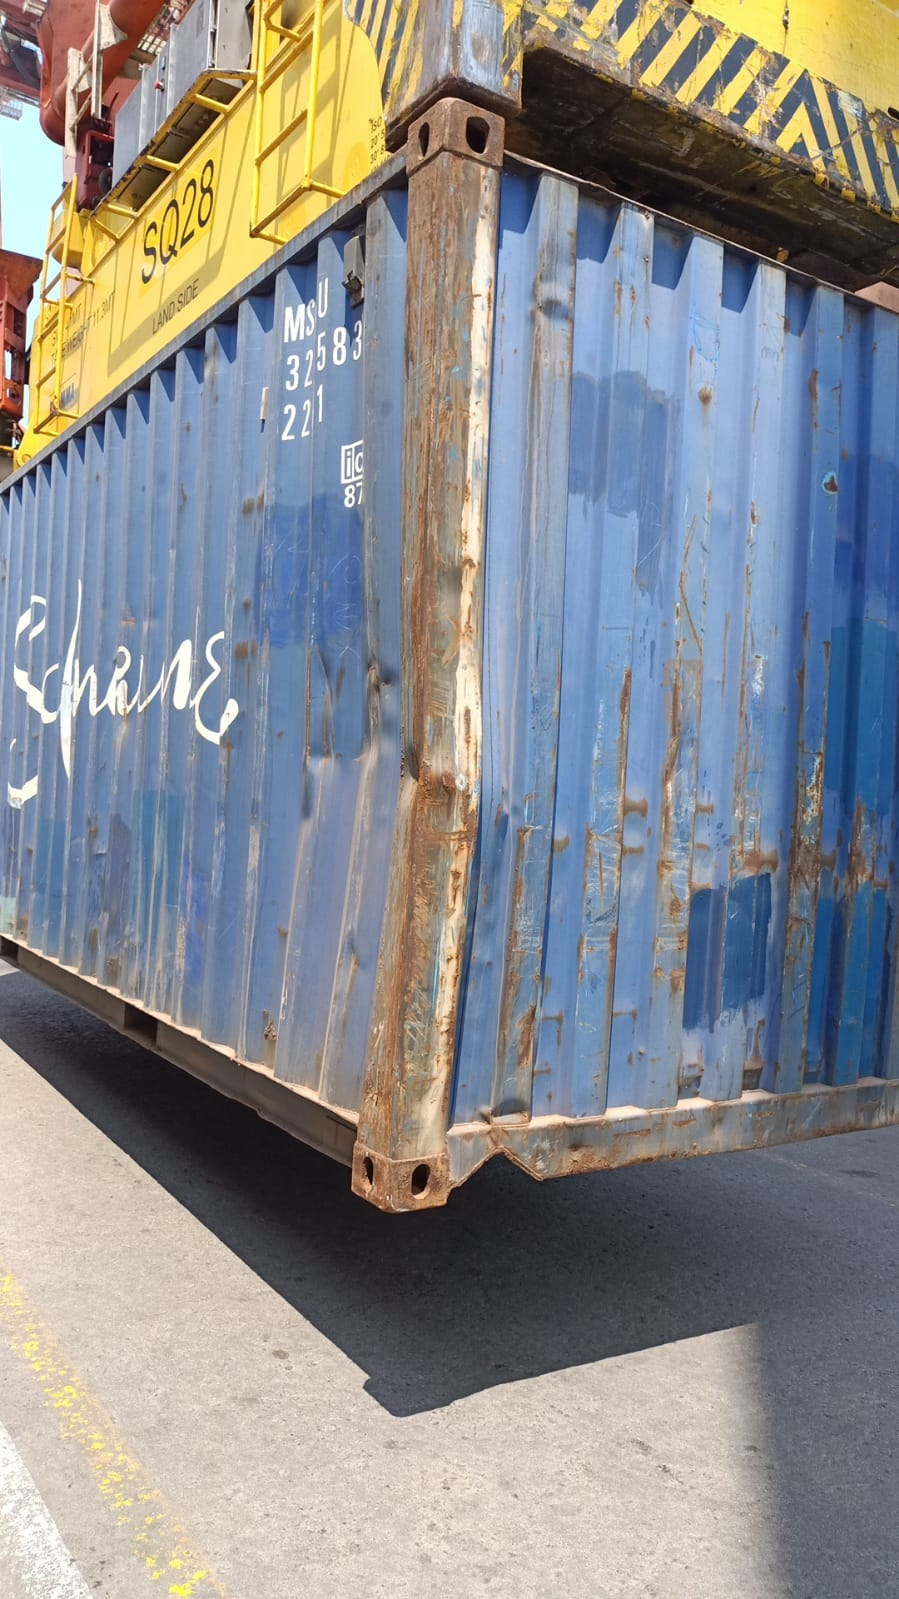moderate: (202, 574, 527, 944), (610, 774, 899, 981)
